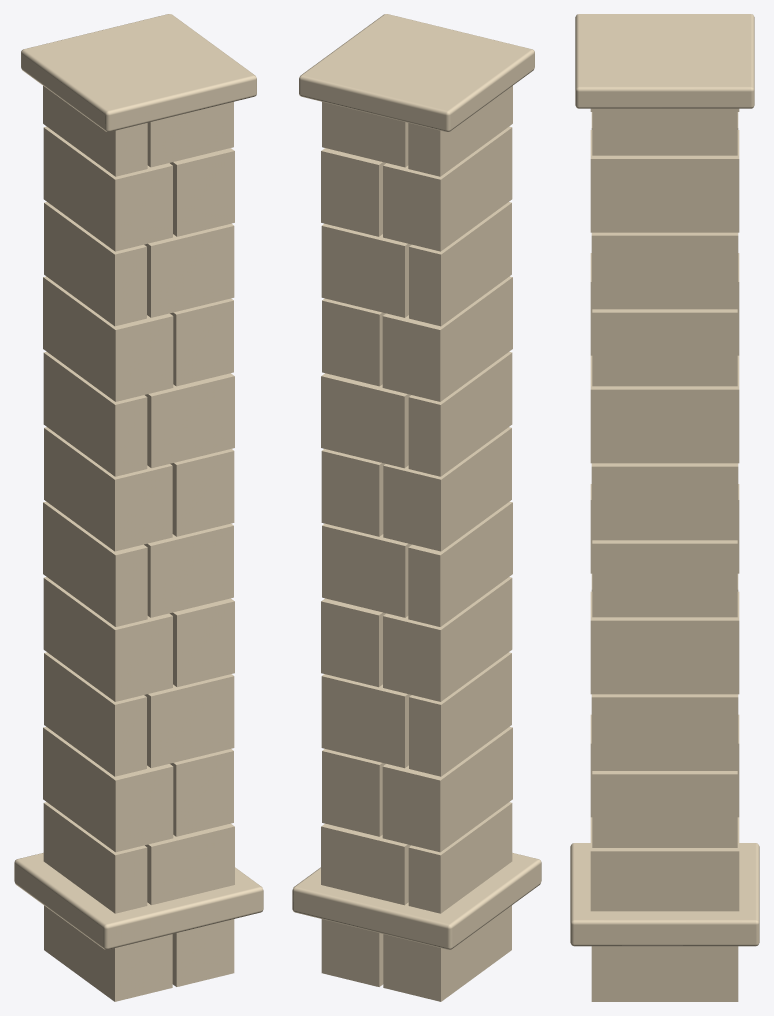
Rendered from wall-corner-pier-1f49a3ef.glb.
3 renders of one model, left to right at view 1: azimuth 30°, elevation 25°; view 2: azimuth 150°, elevation 25°; view 3: azimuth 270°, elevation 25°, orthographic. The views are drawn at different scales.
Parts seen in each view (by area): view 1: wall-corner-pier; view 2: wall-corner-pier; view 3: wall-corner-pier.
Part boxes in pixels (x1=…): wall-corner-pier: x1=14, y1=14, x2=263, y2=1001; wall-corner-pier: x1=292, y1=14, x2=541, y2=1001; wall-corner-pier: x1=570, y1=14, x2=759, y2=1001.
Size of the model in its own units: 0.78 by 4.19 by 0.78.
